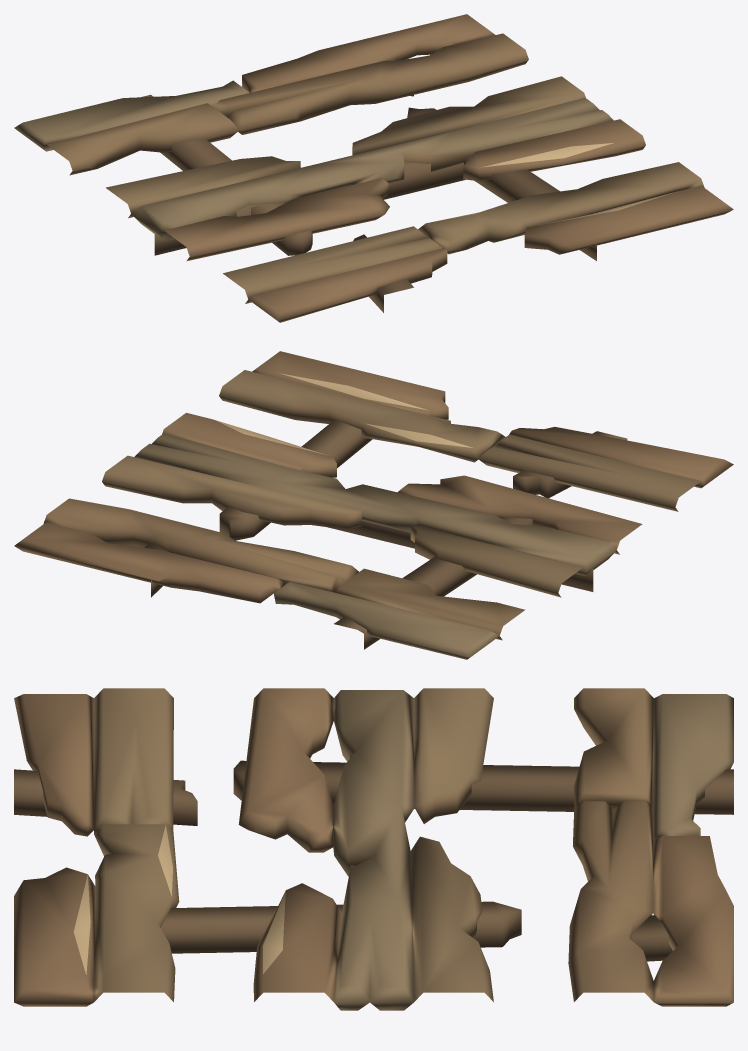
The model's file is rpgpp_av_floor_02f_3x3_2side.gltf.
3 renders of one model, top to bottom at view 1: azimuth 30°, elevation 25°; view 2: azimuth 150°, elevation 25°; view 3: azimuth 270°, elevation 25°, orthographic. The views are drawn at different scales.
Visible parts, largest first — view 1: rpgpp_av_floor_02f_3x3_2side; view 2: rpgpp_av_floor_02f_3x3_2side; view 3: rpgpp_av_floor_02f_3x3_2side.
Part boxes in pixels (box(x1,y1,x2,y2)): rpgpp_av_floor_02f_3x3_2side: box(14, 14, 733, 322); rpgpp_av_floor_02f_3x3_2side: box(14, 351, 733, 659); rpgpp_av_floor_02f_3x3_2side: box(14, 688, 733, 1010).
Bounding box in the file's own units: 0.03 × 0.00215 × 0.03.
Materials: 1 (1 with a texture image).
